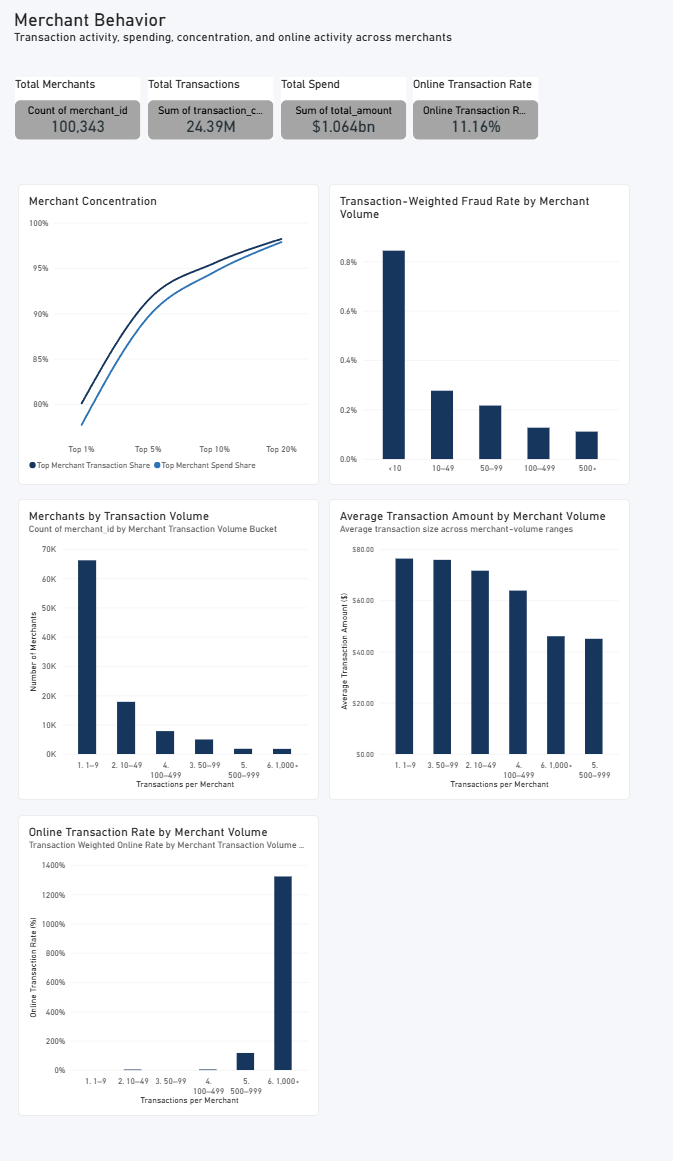

The page's visual inventory and layout, read from the dashboard file:
{"tool":"powerbi","page":{"name":"Merchant Behavior","canvas":[1080,1920],"ordinal":2},"visuals":[{"type":"cardVisual","title":"Total Merchants","fields":{"Data":["CountNonNull(Merchant Behavior.merchant_id)"]},"box":[23.2,129.8,200,100],"z":0},{"type":"cardVisual","title":"Total Transactions ","fields":{"Data":["Sum(Merchant Behavior.transaction_count)"]},"box":[235.8,129.8,200,100],"z":1000},{"type":"cardVisual","title":"Total Spend ","fields":{"Data":["Sum(Merchant Behavior.total_amount)"]},"box":[448.2,129.8,200,100],"z":2000},{"type":"lineChart","title":"Merchant Concentration","fields":{"Category":["Merchant Concentration.Merchant Group"],"Y":["Merchant Behavior.Top Merchant Transaction Share","Merchant Behavior.Top Merchant Spend Share"]},"box":[28.6,300,480,480],"z":3000},{"type":"cardVisual","title":"Online Transaction Rate","fields":{"Data":["Merchant Behavior.Online Transaction Rate"]},"box":[659.5,129.8,200,100],"z":4000},{"type":"clusteredColumnChart","title":"Transaction-Weighted Fraud Rate by Merchant Volume","fields":{"Category":["Merchant Volume Buckets.Volume Bucket"],"Y":["Merchant Volume Buckets.Volume Bucket Fraud Rate"]},"box":[525.7,300,480,480],"z":5000},{"type":"textbox","box":[22.5,21.2,836.2,57.5],"z":6000},{"type":"clusteredColumnChart","title":"Merchants by Transaction Volume","fields":{"Category":["Merchant Behavior.Merchant Transaction Volume Bucket"],"Y":["CountNonNull(Merchant Behavior.merchant_id)"]},"box":[28.6,802.9,480,480],"z":7000},{"type":"clusteredColumnChart","title":"Average Transaction Amount by Merchant Volume","fields":{"Category":["Merchant Behavior.Merchant Transaction Volume Bucket"],"Y":["Avg(Merchant Behavior.avg_transaction_amount)"]},"box":[525.7,802.9,480,480],"z":8000},{"type":"clusteredColumnChart","title":"Online Transaction Rate by Merchant Volume","fields":{"Category":["Merchant Behavior.Merchant Transaction Volume Bucket"],"Y":["Merchant Behavior.Transaction Weighted Online Rate"]},"box":[28.6,1307.1,480,480],"z":9000}]}

Visuals, with their boxes on the page's 1080x1920 design canvas (x1, y1, x2, y2). These are canvas units, not pixel positions in the 673x1161 screenshot, which may show the page scaled, cropped or inside an application window:
"Total Merchants" cardVisual: [23,130,223,230]
"Total Transactions " cardVisual: [236,130,436,230]
"Total Spend " cardVisual: [448,130,648,230]
"Merchant Concentration" lineChart: [29,300,509,780]
"Online Transaction Rate" cardVisual: [660,130,860,230]
"Transaction-Weighted Fraud Rate by Merchant Volume" clusteredColumnChart: [526,300,1006,780]
textbox: [22,21,859,79]
"Merchants by Transaction Volume" clusteredColumnChart: [29,803,509,1283]
"Average Transaction Amount by Merchant Volume" clusteredColumnChart: [526,803,1006,1283]
"Online Transaction Rate by Merchant Volume" clusteredColumnChart: [29,1307,509,1787]
